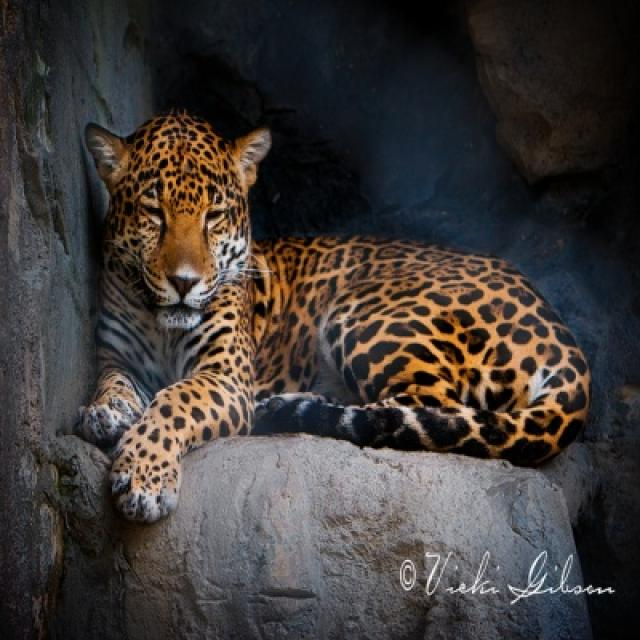Jaguar: (80, 110, 592, 526)
